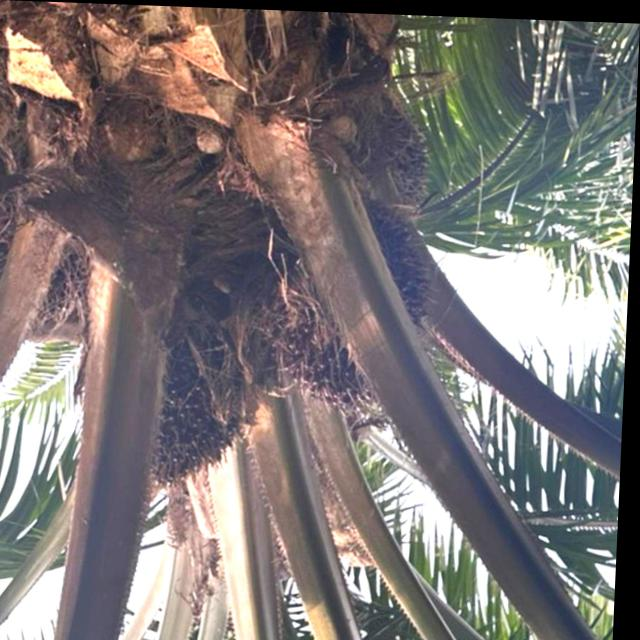ripe: (136, 272, 280, 500), (276, 213, 429, 420)
